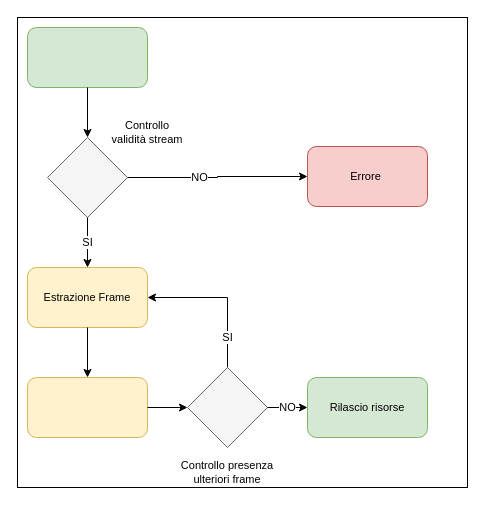
Some shapes in this 485 by 505 pixel diagram are drawn without their labels. Here are the shapes that lost their labels. From the top down, the centre of each, then its label:
At point (87, 57): "Apertura Video".
At point (87, 407): "Elaborazione Frame".
